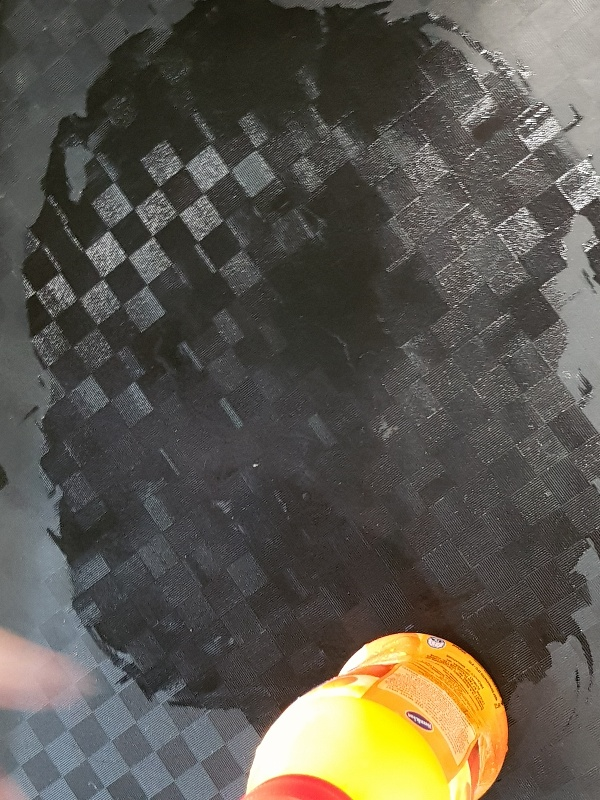Sunkist Orange Juice Drink: (235, 629, 510, 800)
